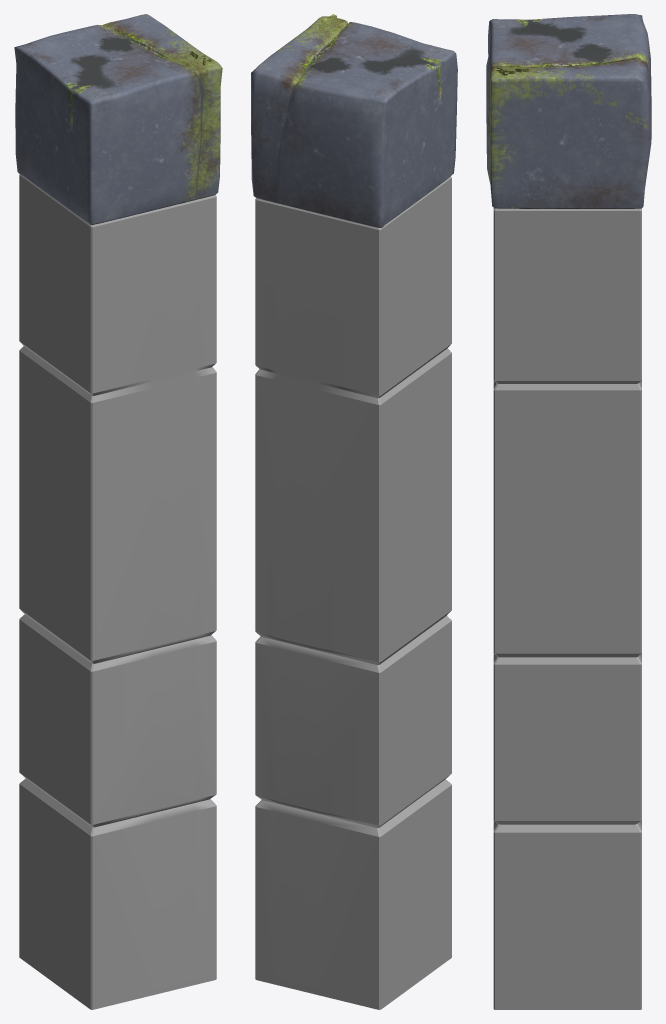
File: Column_Complete.fbx
3 renders of one model, left to right at view 1: azimuth 30°, elevation 25°; view 2: azimuth 150°, elevation 25°; view 3: azimuth 270°, elevation 25°, orthographic. The views are drawn at different scales.
Parts seen in each view (by area): view 1: Column_Entire; view 2: Column_Entire; view 3: Column_Entire.
Boxes of the visible parts, x1,y1,x2,y2 form: Column_Entire: [14, 14, 222, 1009]; Column_Entire: [251, 14, 457, 1009]; Column_Entire: [486, 14, 651, 1009].
Size of the model in its own units: 1.08 by 6.96 by 1.11.
